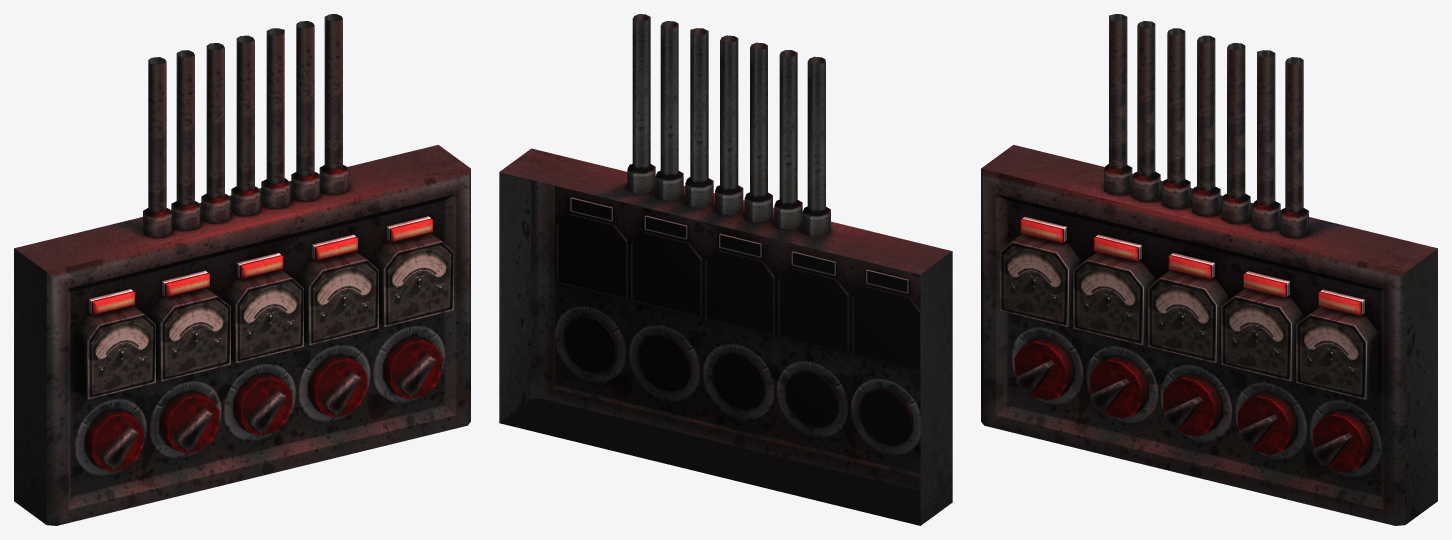
File: SWITCHBOARD.obj
3 views of the same model, side by side, from view 1: azimuth 30°, elevation 25°; view 2: azimuth 150°, elevation 25°; view 3: azimuth 330°, elevation 25° (orthographic).
Parts seen in each view (by area): view 1: Group; view 2: Group; view 3: Group.
Boxes of the visible parts, box(x1,y1,x2,y2) form: Group: box(14, 14, 470, 525); Group: box(499, 14, 952, 525); Group: box(981, 14, 1437, 525).
Bounding box in the file's own units: 64.77 × 61.89 × 11.7.
Materials: 1 (1 with a texture image).
